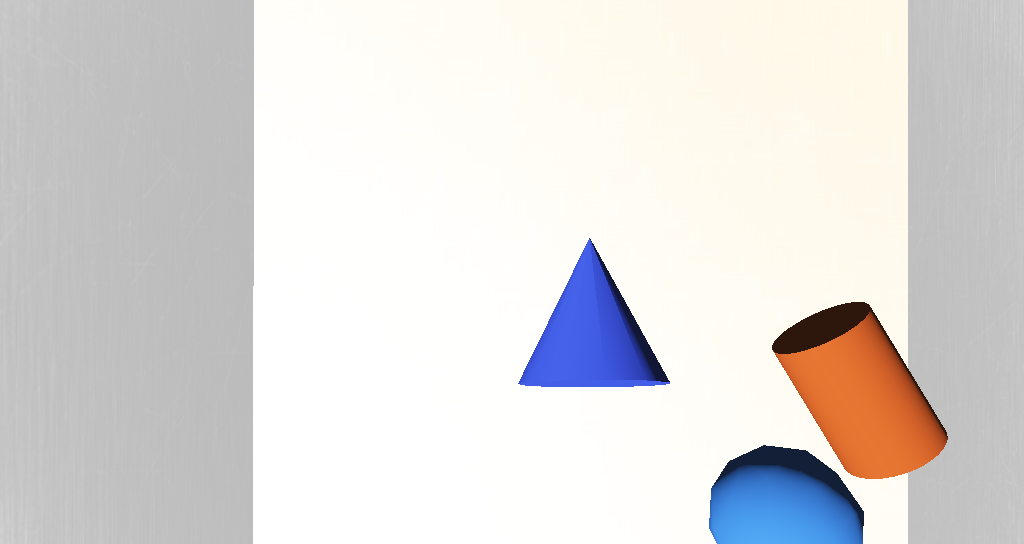cone: (586, 277, 667, 334)
cylinder: (482, 255, 542, 308)
sphere: (563, 320, 623, 367)
